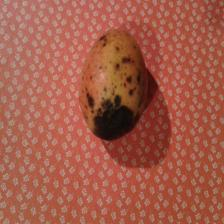Mango Semirotten: (77, 26, 146, 141)
